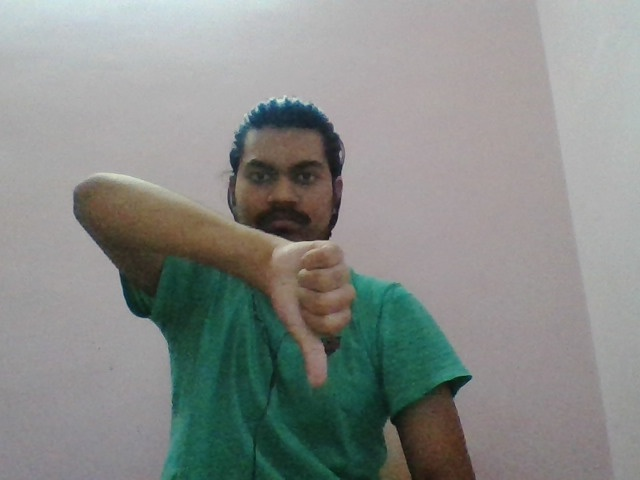ThumbsDown: (274, 235, 358, 390)
